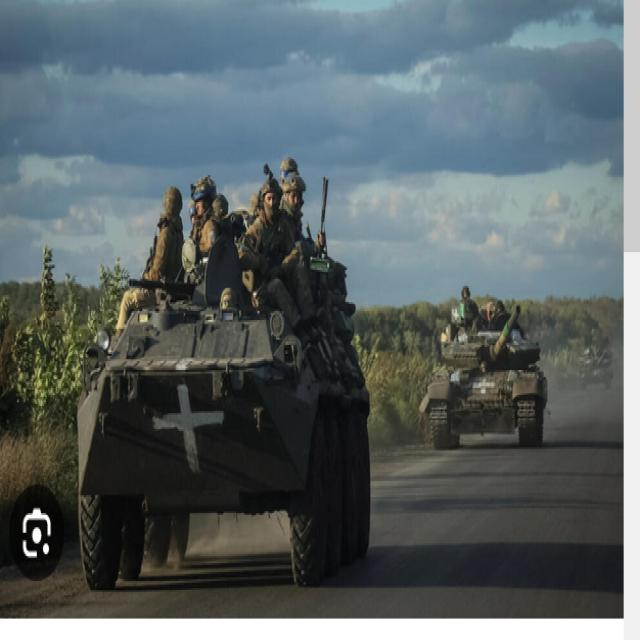MIL_APC: (54, 221, 382, 587)
